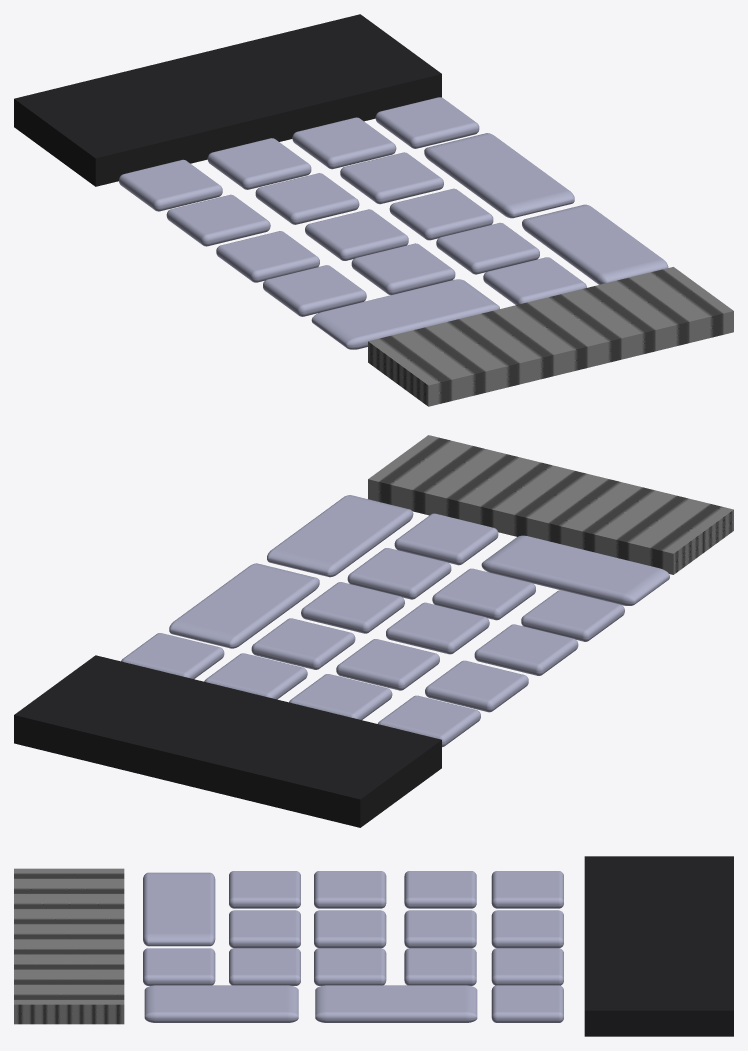
Rendered from CalculatorIcon.glb.
3 views of the same model, one above another, from view 1: azimuth 30°, elevation 25°; view 2: azimuth 150°, elevation 25°; view 3: azimuth 270°, elevation 25° (orthographic). The views are drawn at different scales.
Parts seen in each view (by area): view 1: Box (×17), Box 1, Box 2; view 2: Box (×17), Box 1, Box 2; view 3: Box (×17), Box 1, Box 2.
Boxes of the visible parts, bbox=[...] form: Box (×17): bbox=[119, 97, 668, 349]; Box 1: bbox=[14, 14, 441, 186]; Box 2: bbox=[368, 267, 733, 406]; Box (×17): bbox=[121, 495, 669, 747]; Box 1: bbox=[14, 655, 441, 827]; Box 2: bbox=[368, 435, 733, 574]; Box (×17): bbox=[143, 871, 563, 1022]; Box 1: bbox=[584, 856, 733, 1036]; Box 2: bbox=[14, 868, 124, 1024].
Size of the model in its own units: 0.1519 by 0.0119 by 0.2992.
19 materials, 1 textured.
